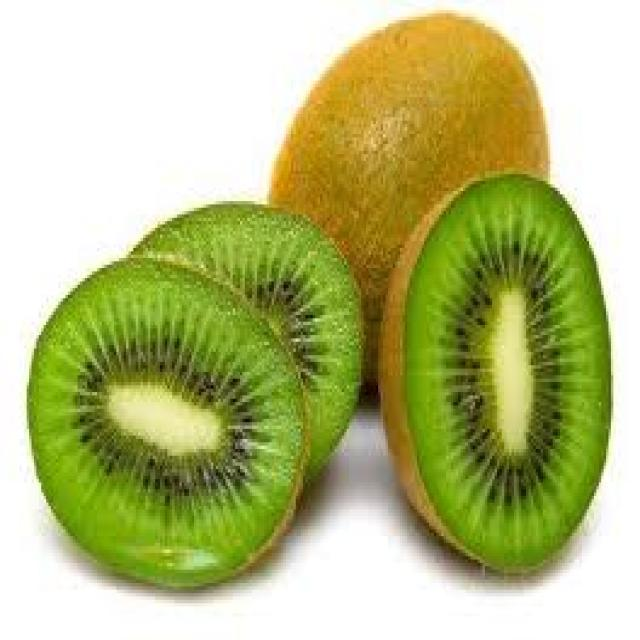kiwi: (17, 0, 618, 617)
